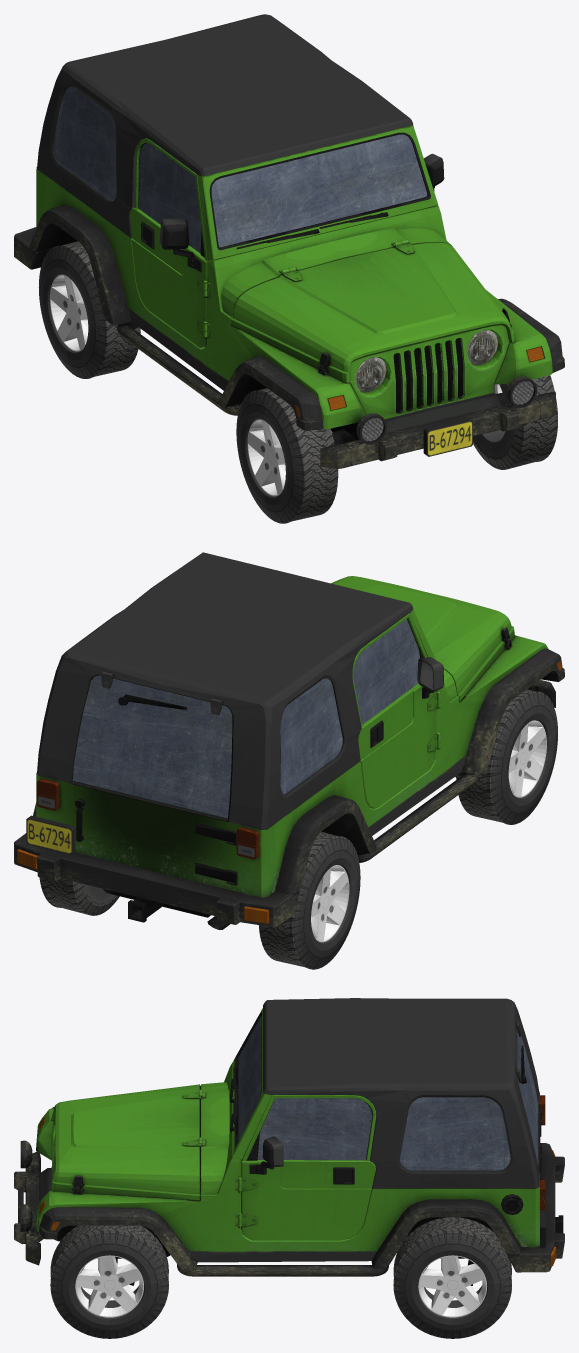
File: jalees _04.fbx
3 renders of one model, top to bottom at view 1: azimuth 30°, elevation 25°; view 2: azimuth 150°, elevation 25°; view 3: azimuth 270°, elevation 25°, orthographic. The views are drawn at different scales.
Parts seen in each view (by area): view 1: Body2, FR, RR, FL; view 2: Body2, FR, RR, RL; view 3: Body2, RL, FL.
Boxes of the visible parts, <box> form: Body2: <box>14,14,564,468</box>; FR: <box>236,388,338,523</box>; RR: <box>38,241,140,378</box>; FL: <box>473,375,557,469</box>; Body2: <box>14,552,564,929</box>; FR: <box>456,689,557,824</box>; RR: <box>258,831,360,969</box>; RL: <box>39,877,119,915</box>; Body2: <box>14,998,564,1285</box>; RL: <box>393,1217,511,1338</box>; FL: <box>50,1225,168,1338</box>.
Bounding box in the file's own units: 92.31 × 88.02 × 180.
Materials: 5 (5 with a texture image).
